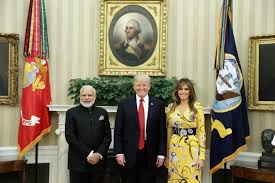Bad: (65, 74, 168, 183), (115, 74, 206, 183)
